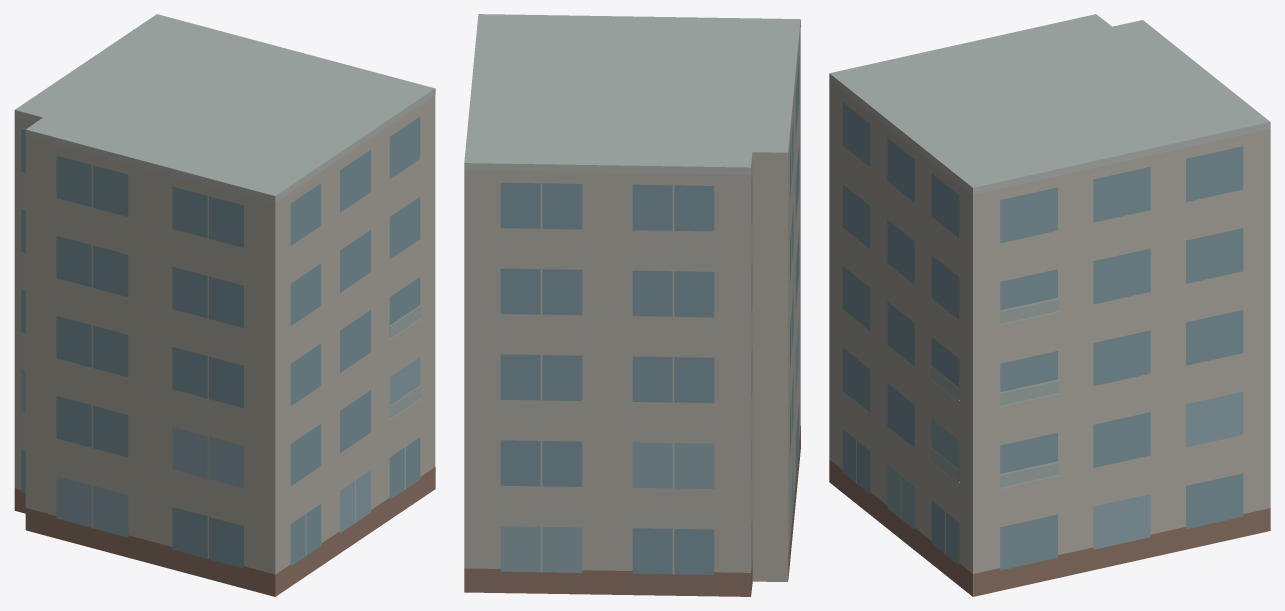
File: survey-upis-32856450.glb
3 views of the same model, side by side, from view 1: azimuth 30°, elevation 25°; view 2: azimuth 150°, elevation 25°; view 3: azimuth 270°, elevation 25° (orthographic). The views are drawn at different scales.
Parts seen in each view (by area): view 1: survey-upis-32856450.tmp; view 2: survey-upis-32856450.tmp; view 3: survey-upis-32856450.tmp.
Part boxes in pixels (x1,y1,x2,y2): survey-upis-32856450.tmp: [14, 14, 435, 596]; survey-upis-32856450.tmp: [464, 14, 800, 596]; survey-upis-32856450.tmp: [829, 14, 1270, 596].
Bounding box in the file's own units: 13.25 × 14.52 × 14.2.
